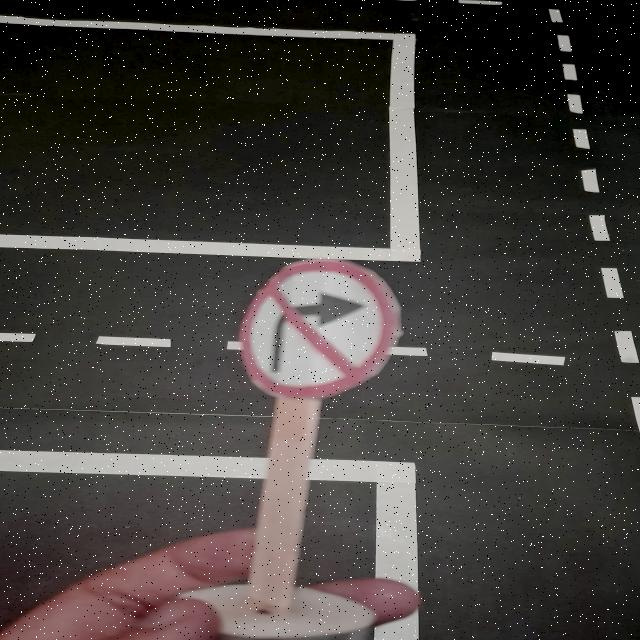Dilarang Belok Kanan: (240, 260, 396, 400)
